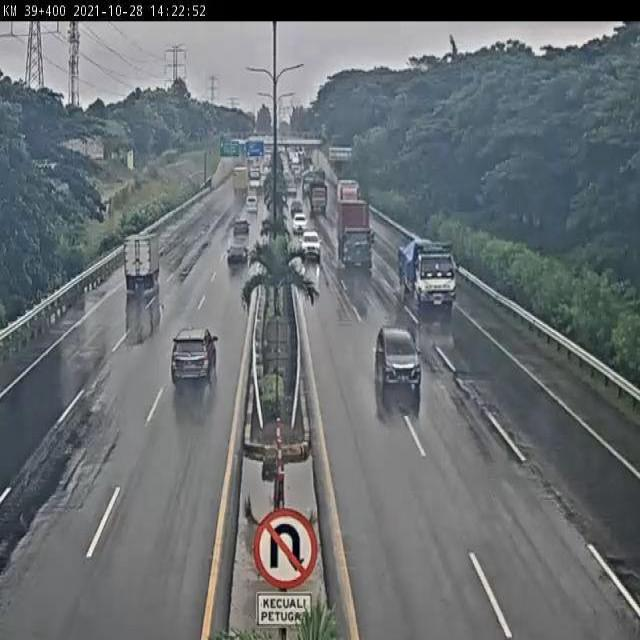car: (375, 324, 424, 392), (170, 327, 219, 382), (298, 230, 324, 262), (227, 241, 248, 268), (292, 215, 310, 237), (233, 219, 251, 237)
truck-l-: (396, 239, 461, 312)
truck-m-: (123, 234, 165, 294)
truck-xl-: (338, 199, 377, 273)
